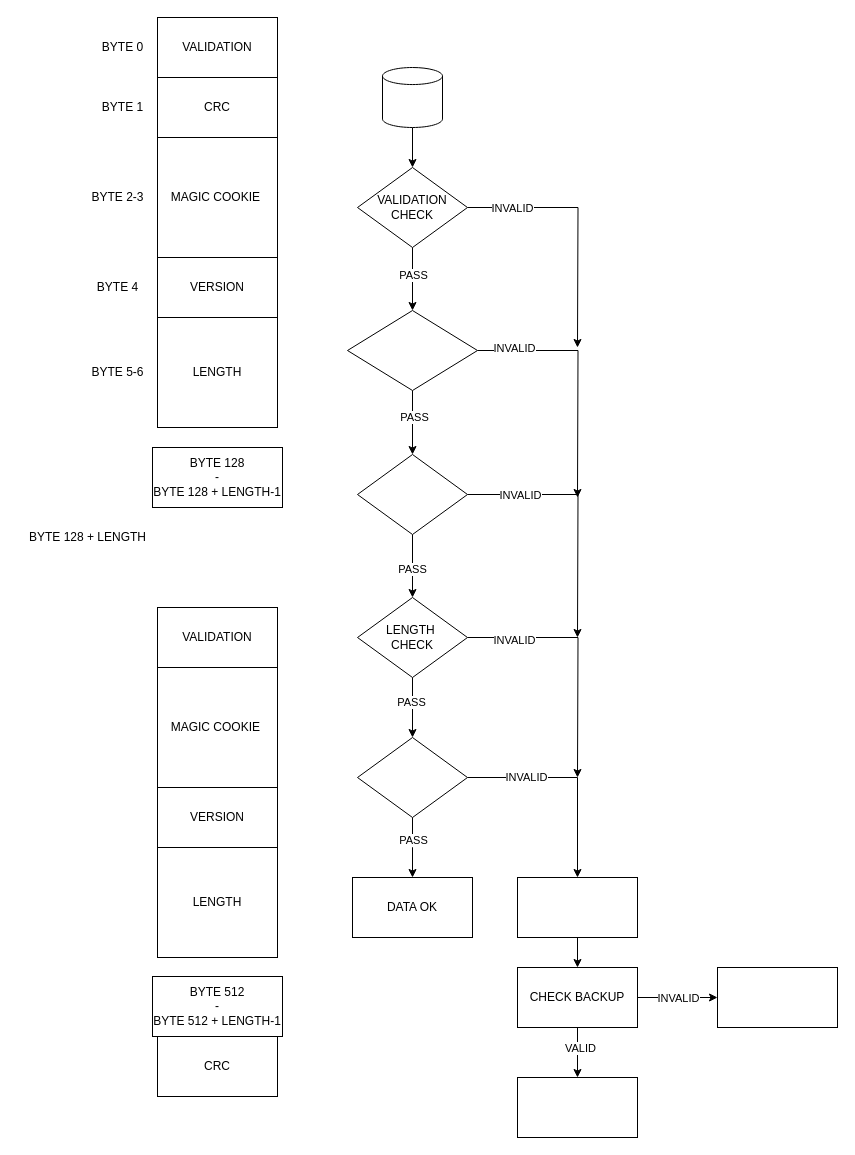
The diagram is 855 pixels wide and 1155 high, and some of its shapes have lost their labels. Each missing label, with the centre of its shape:
"CRC CHECK" goes at point (412, 777).
"EEPROM" goes at point (412, 97).
"MAGIC COOKIE CHECK" goes at point (412, 350).
"MARK VALID" goes at point (577, 1107).
"RESET SYSTEM TO VALID" goes at point (777, 997).
"VALIDATIONBYTE INVALID" goes at point (577, 907).
"VERSION CHECK" goes at point (412, 494).
